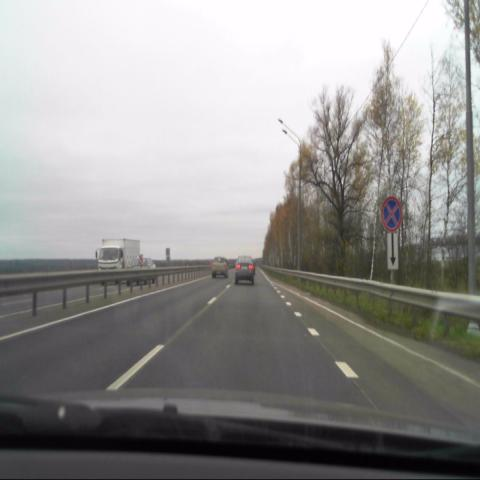8_2_3: (387, 232, 399, 270)
